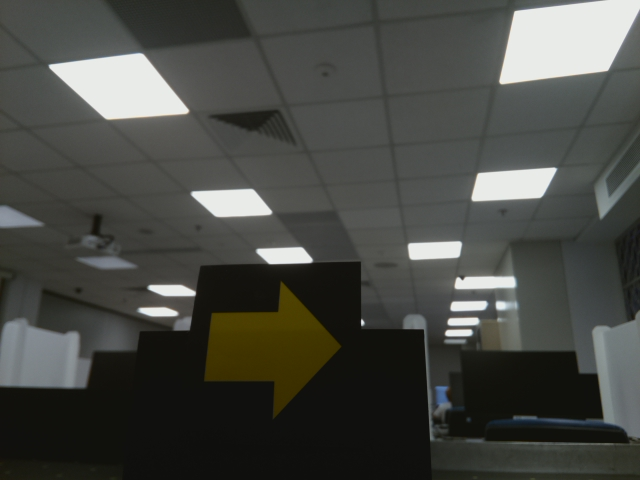right: (201, 279, 346, 417)
